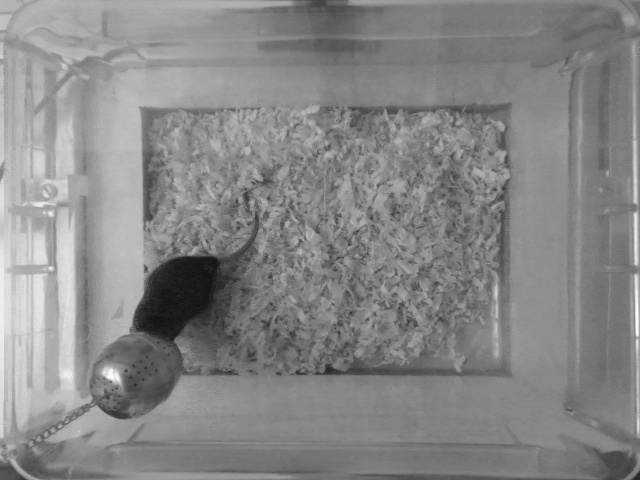mice: (127, 207, 260, 341)
